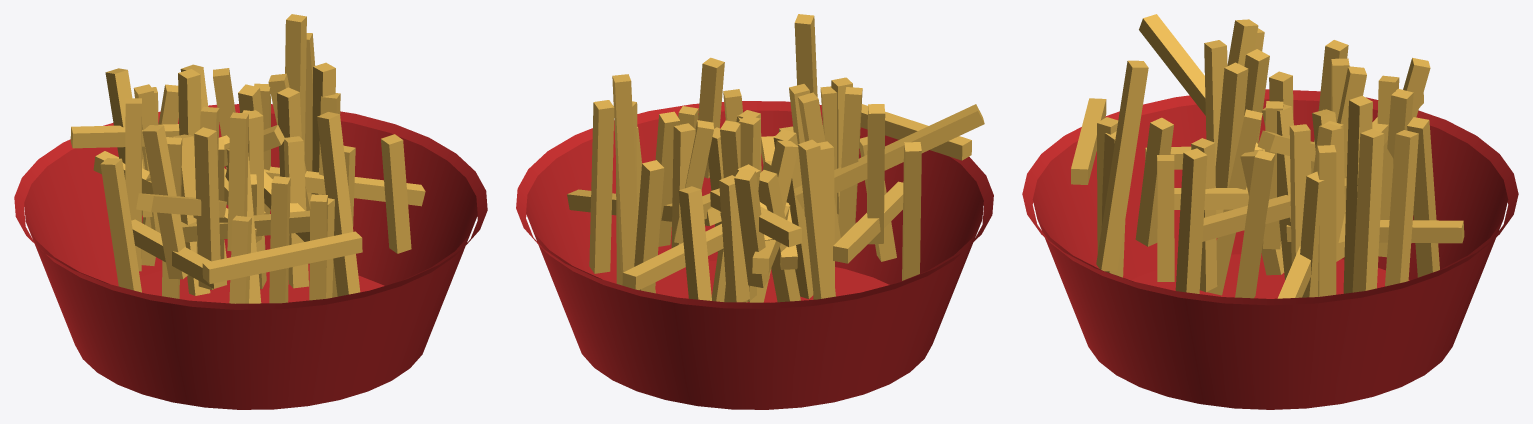
Rendered from fries-party.glb.
The picture shows the model from 3 angles, left to right: view 1: azimuth 30°, elevation 25°; view 2: azimuth 150°, elevation 25°; view 3: azimuth 270°, elevation 25°; orthographic projection. The views are drawn at different scales.
Bounding box in the file's own units: 0.3258 × 0.2 × 0.3258.
